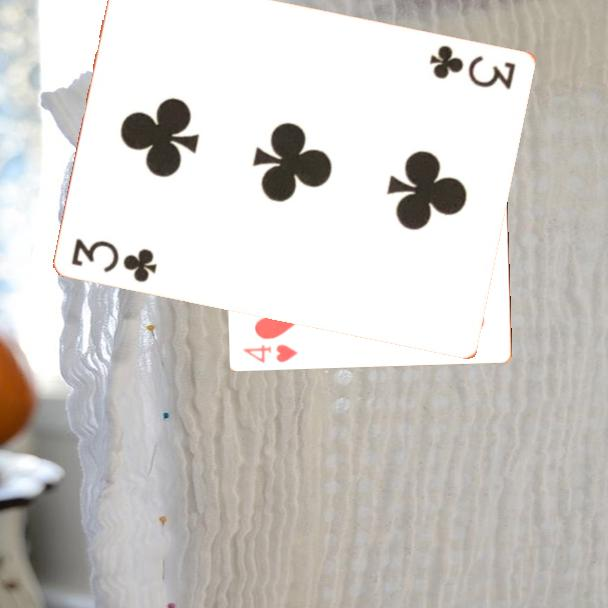c03: (426, 41, 519, 92), (68, 234, 160, 285)
h04: (240, 340, 300, 365)
